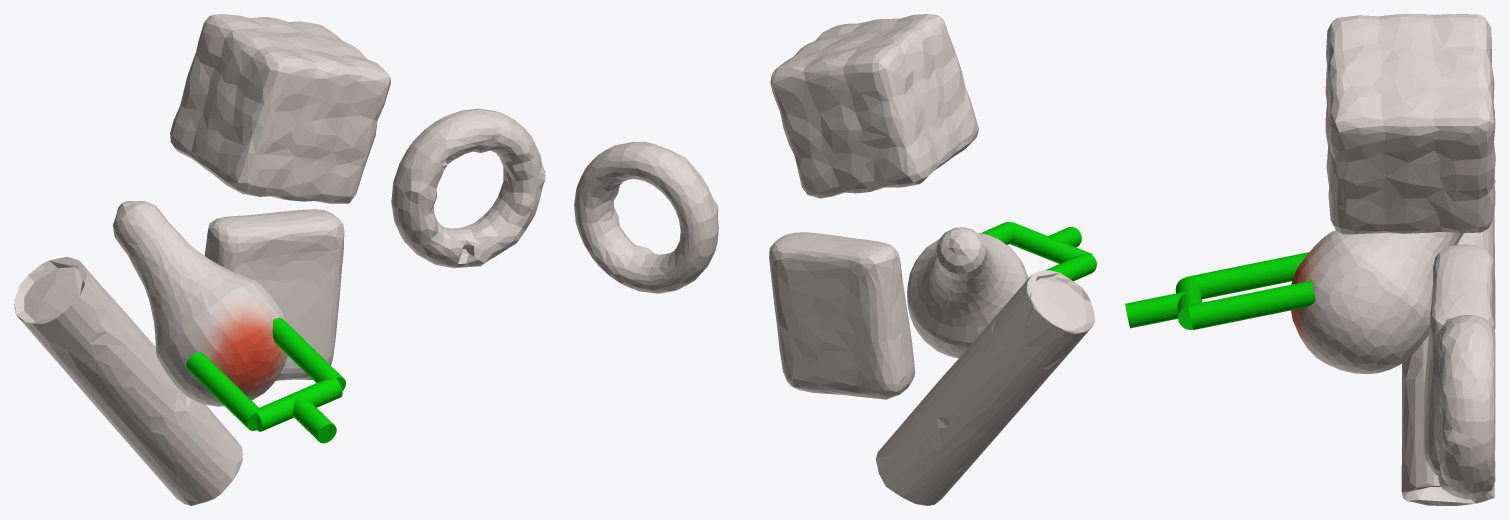
Rendered from round_000_trial_000.obj.
The picture shows the model from 3 angles, left to right: view 1: azimuth 30°, elevation 25°; view 2: azimuth 150°, elevation 25°; view 3: azimuth 270°, elevation 25°; orthographic projection. The views are drawn at different scales.
Parts seen in each view (by area): view 1: geometry_0, geometry_1; view 2: geometry_0, geometry_1; view 3: geometry_0, geometry_1.
Boxes of the visible parts, box(x1,y1,x2,y2) form: geometry_0: box(14, 14, 545, 505); geometry_1: box(186, 318, 345, 443); geometry_0: box(574, 14, 1094, 505); geometry_1: box(981, 221, 1096, 281); geometry_0: box(1291, 14, 1495, 505); geometry_1: box(1125, 252, 1315, 329).
Size of the model in its own units: 0.2684 by 0.2264 by 0.1467.
